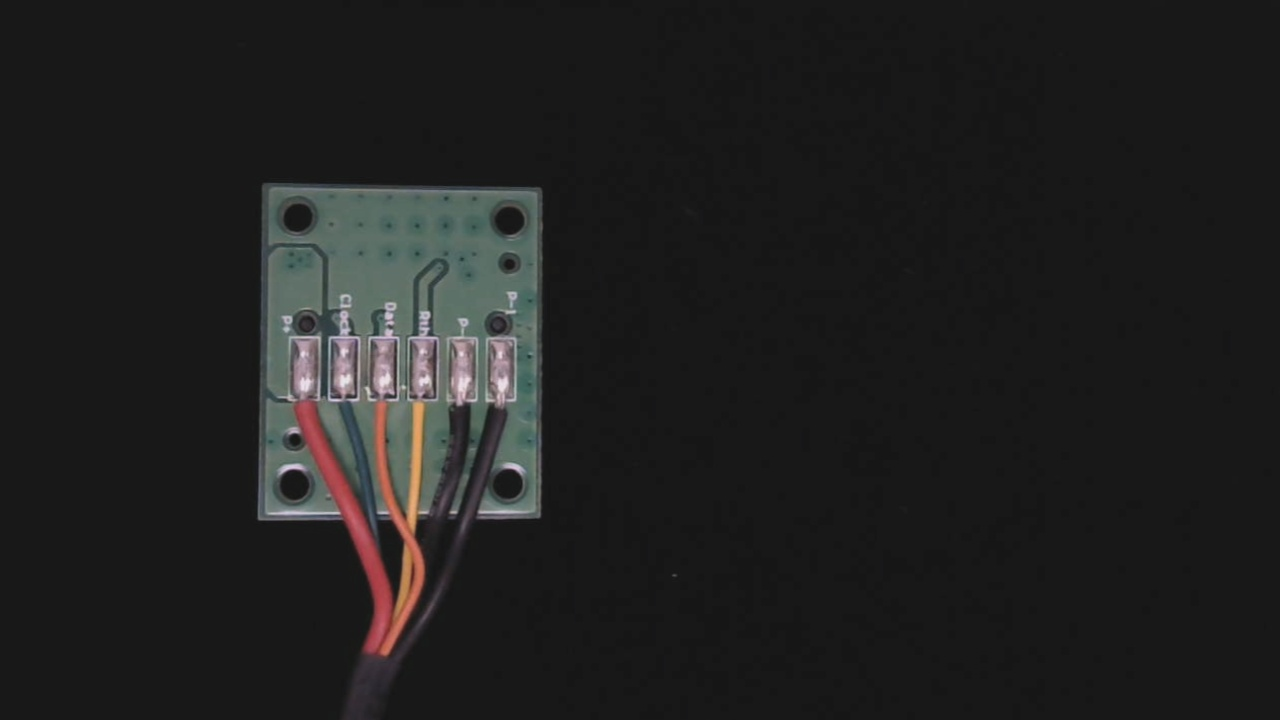Black: (456, 380, 486, 445)
Black1: (499, 381, 529, 443)
Green: (335, 380, 369, 442)
Orange: (373, 380, 409, 443)
Red: (295, 381, 326, 448)
Yellow: (415, 379, 448, 451)
